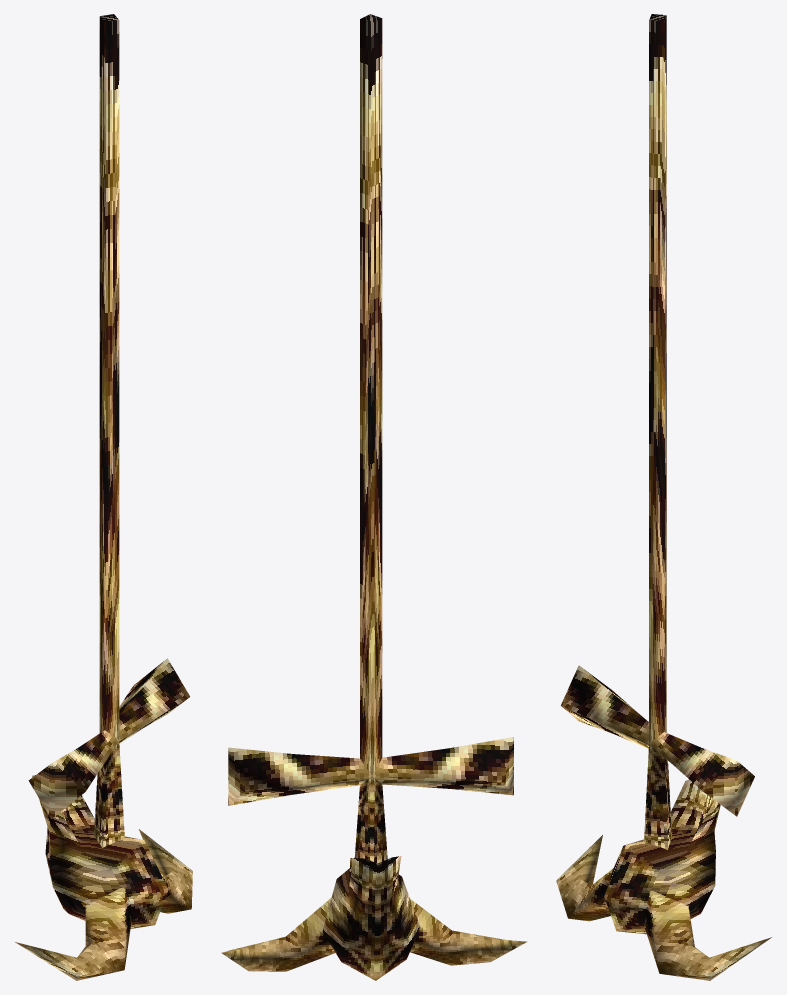
Rendered from Staff01.glb.
3 renders of one model, left to right at view 1: azimuth 30°, elevation 25°; view 2: azimuth 150°, elevation 25°; view 3: azimuth 270°, elevation 25°, orthographic. The views are drawn at different scales.
Parts seen in each view (by area): view 1: model_Staff01; view 2: model_Staff01; view 3: model_Staff01.
Part boxes in pixels (bbox=[...]): model_Staff01: bbox=[15, 14, 192, 980]; model_Staff01: bbox=[221, 14, 527, 980]; model_Staff01: bbox=[556, 14, 771, 980].
Bounding box in the file's own units: 0.3826 × 1.44 × 0.3067.
Materials: 1 (1 with a texture image).
